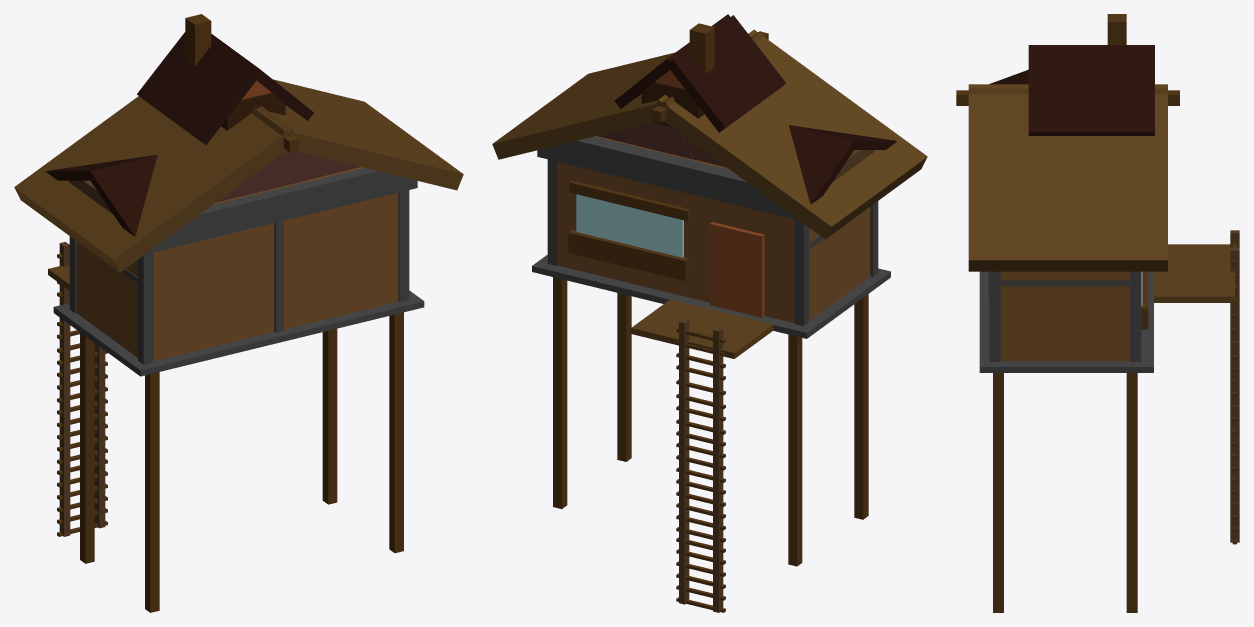
File: DO NOT USE.fbx
The picture shows the model from 3 angles, left to right: view 1: azimuth 30°, elevation 25°; view 2: azimuth 150°, elevation 25°; view 3: azimuth 270°, elevation 25°; orthographic projection. The views are drawn at different scales.
Visible parts, largest first — view 1: Cube, Cube.001, Cube.002, Cube.018, Cube.006, Cube.025, Cube.037, Cube.036, Cube.035, Cube.011, Cube.034, Cube.056 (+10 smaller); view 2: Cube.001, Cube, Cube.002, Cube.018, Cube.006, Cube.027, Cube.025, Cube.028, Cube.026, Cube.035, Cube.034, Cube.037 (+14 smaller); view 3: Cube.002, Cube, Cube.007, Cube.026, Cube.025, Cube.034, Cube.036, Cube.057, Cube.022, Cube.023, Cube.032, Cube.008 (+3 smaller).
Boxes of the visible parts, left/top/right/bottom form: Cube: left=76, top=167, right=398, bottom=360; Cube.001: left=14, top=96, right=296, bottom=272; Cube.002: left=251, top=79, right=463, bottom=190; Cube.018: left=148, top=168, right=417, bottom=253; Cube.006: left=137, top=32, right=260, bottom=145; Cube.025: left=53, top=290, right=424, bottom=376; Cube.037: left=145, top=372, right=159, bottom=612; Cube.036: left=389, top=312, right=403, bottom=553; Cube.035: left=80, top=332, right=94, bottom=563; Cube.011: left=88, top=155, right=157, bottom=235; Cube.034: left=322, top=328, right=337, bottom=504; Cube.056: left=59, top=242, right=70, bottom=536; Cube.001: left=654, top=29, right=927, bottom=239; Cube: left=558, top=136, right=870, bottom=322; Cube.002: left=492, top=31, right=763, bottom=159; Cube.018: left=537, top=136, right=797, bottom=219; Cube.006: left=666, top=15, right=785, bottom=132; Cube.027: left=710, top=222, right=764, bottom=317; Cube.025: left=532, top=255, right=890, bottom=338; Cube.028: left=576, top=194, right=683, bottom=257; Cube.026: left=631, top=299, right=773, bottom=358; Cube.035: left=788, top=334, right=802, bottom=566; Cube.034: left=553, top=277, right=567, bottom=508; Cube.037: left=854, top=294, right=868, bottom=519; Cube.002: left=968, top=84, right=1167, bottom=271; Cube: left=1000, top=271, right=1129, bottom=361; Cube.007: left=1028, top=48, right=1154, bottom=135; Cube.026: left=1153, top=244, right=1234, bottom=302; Cube.025: left=979, top=271, right=1153, bottom=372; Cube.034: left=1126, top=373, right=1137, bottom=612; Cube.036: left=993, top=373, right=1003, bottom=612; Cube.057: left=1230, top=247, right=1239, bottom=542; Cube.022: left=989, top=271, right=1000, bottom=361; Cube.023: left=1130, top=271, right=1141, bottom=361; Cube.032: left=1000, top=280, right=1129, bottom=286; Cube.008: left=1107, top=14, right=1126, bottom=44.
Size of the model in its own units: 4176 by 6147 by 2906.
